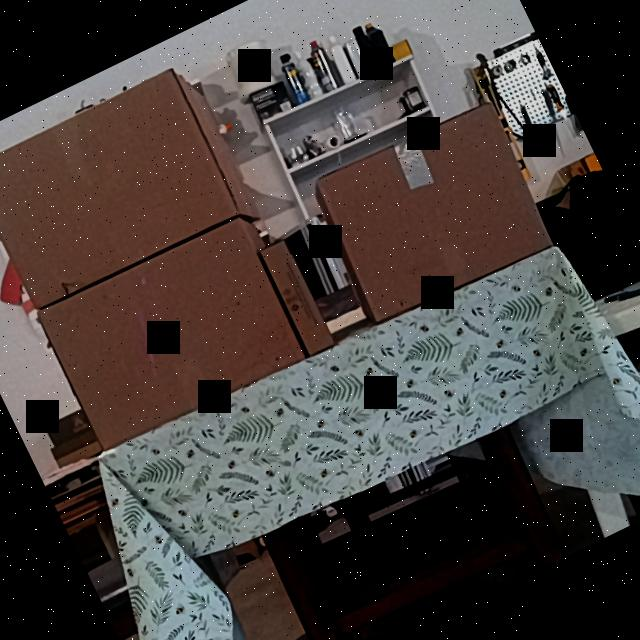box: (36, 213, 310, 456), (0, 68, 239, 311), (312, 98, 560, 326), (258, 240, 336, 358)
